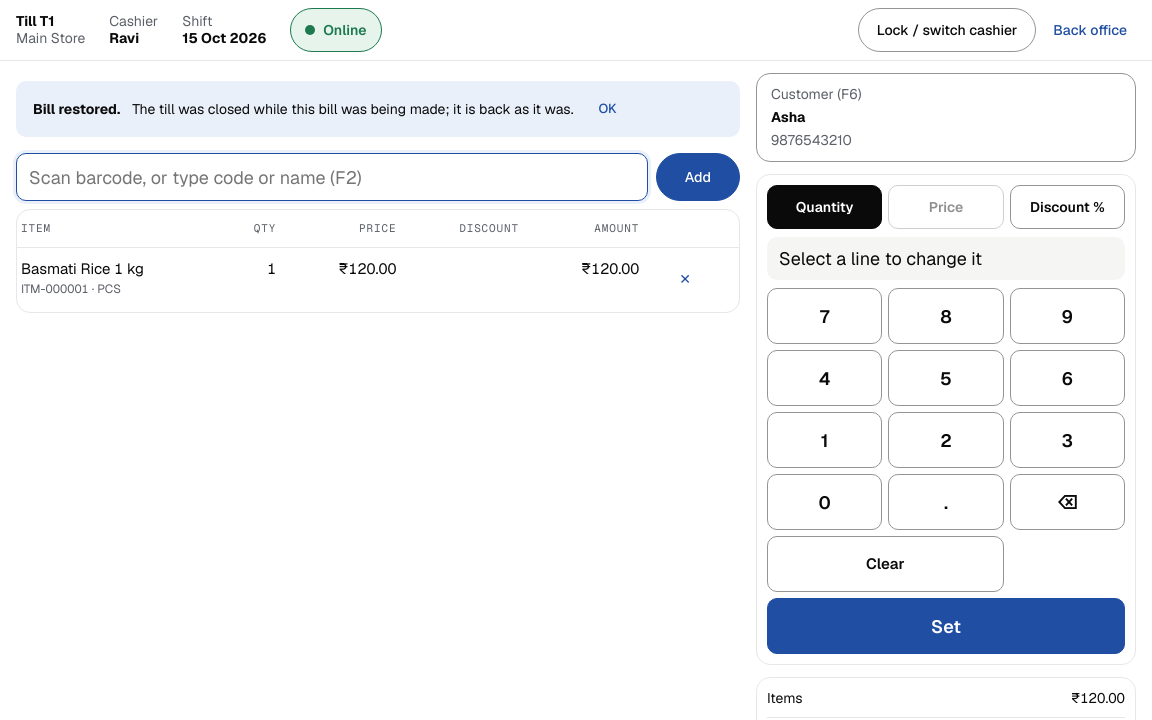
it: on account at the till (plan 07 §1a) › over the credit limit: manager PIN, then the same bill is sent again and finished
Expected: the form is shown, [16, 153, 740, 201]
Press F4
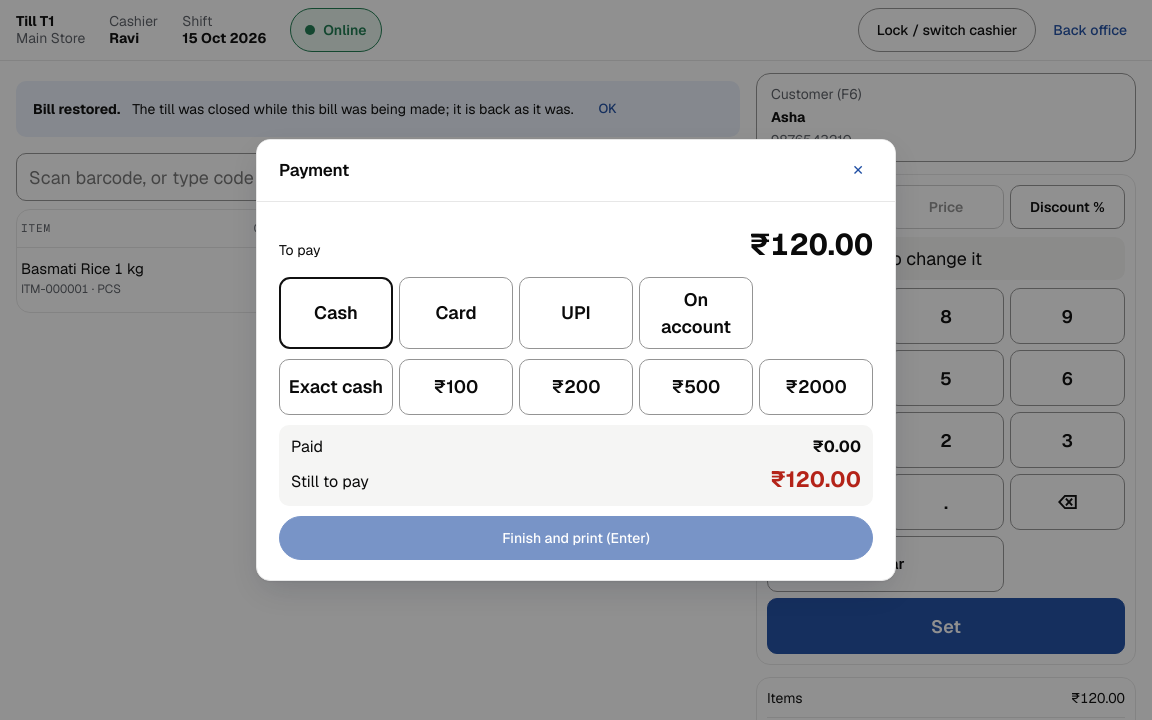
Click the button "On account" at [696, 313], box [639, 277, 753, 349]
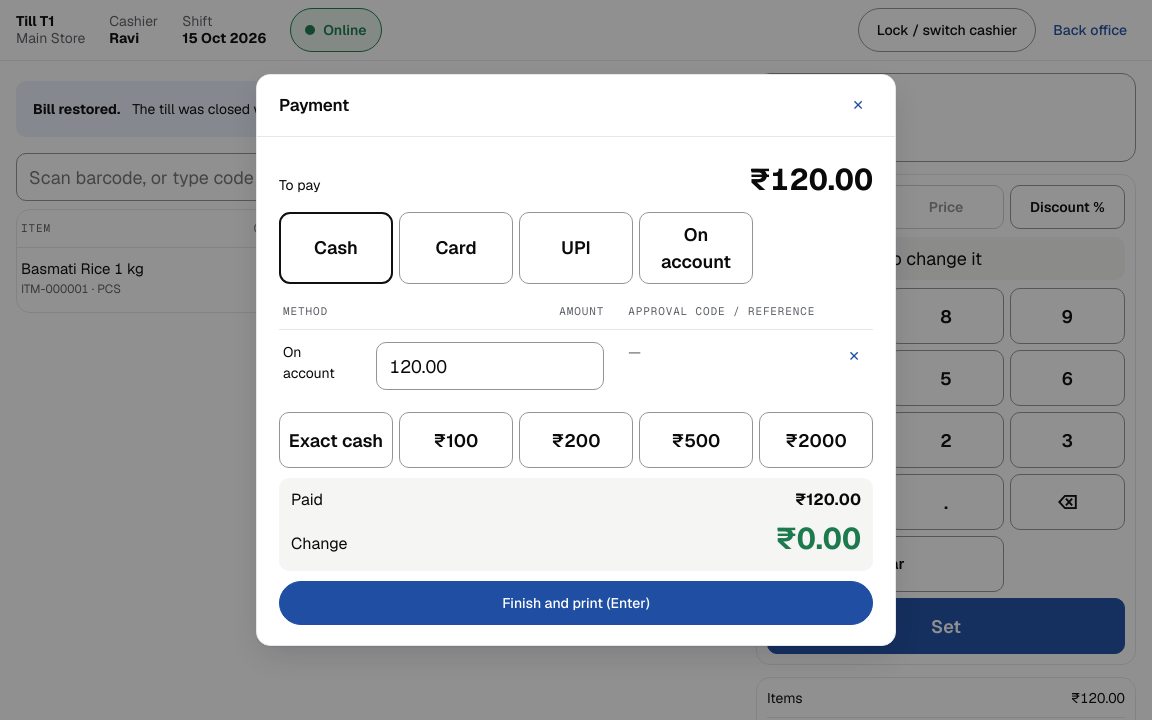
Click the button "Finish and print (Enter)" at [576, 603], box [279, 581, 873, 625]
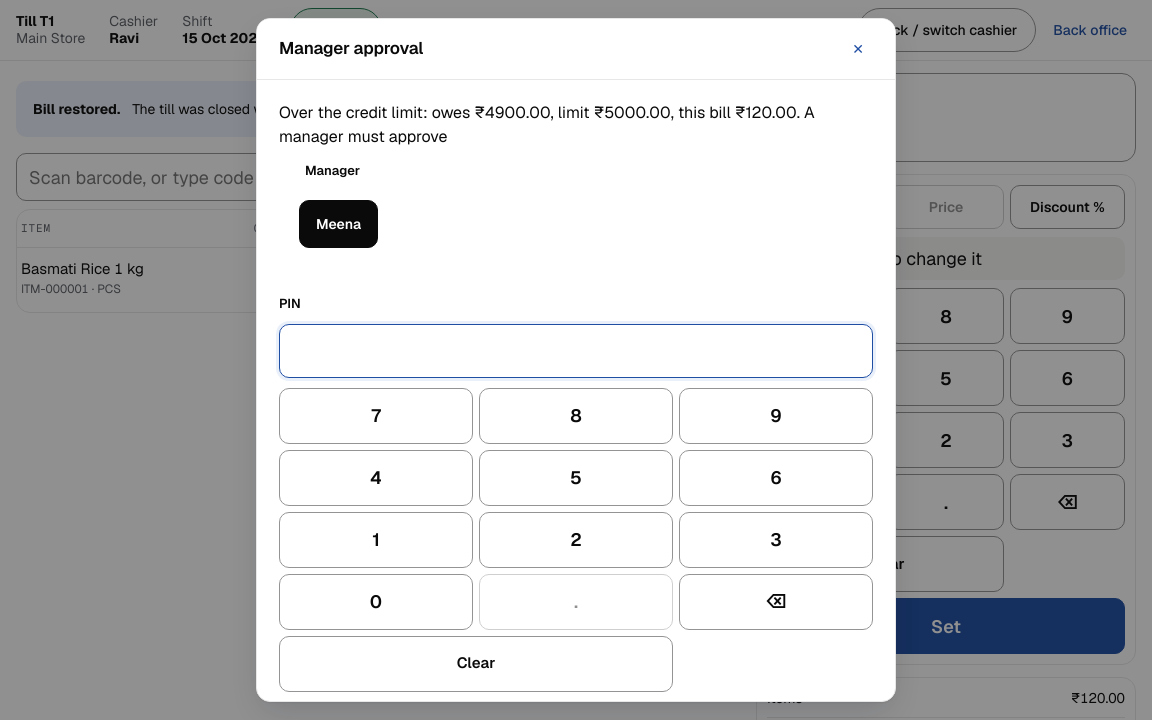
Now the text "Over the credit limit" is shown, box [279, 102, 815, 147]
Type "4321" into the password field labelled "PIN" at [576, 351], box [279, 324, 873, 378]
(page scrolled)
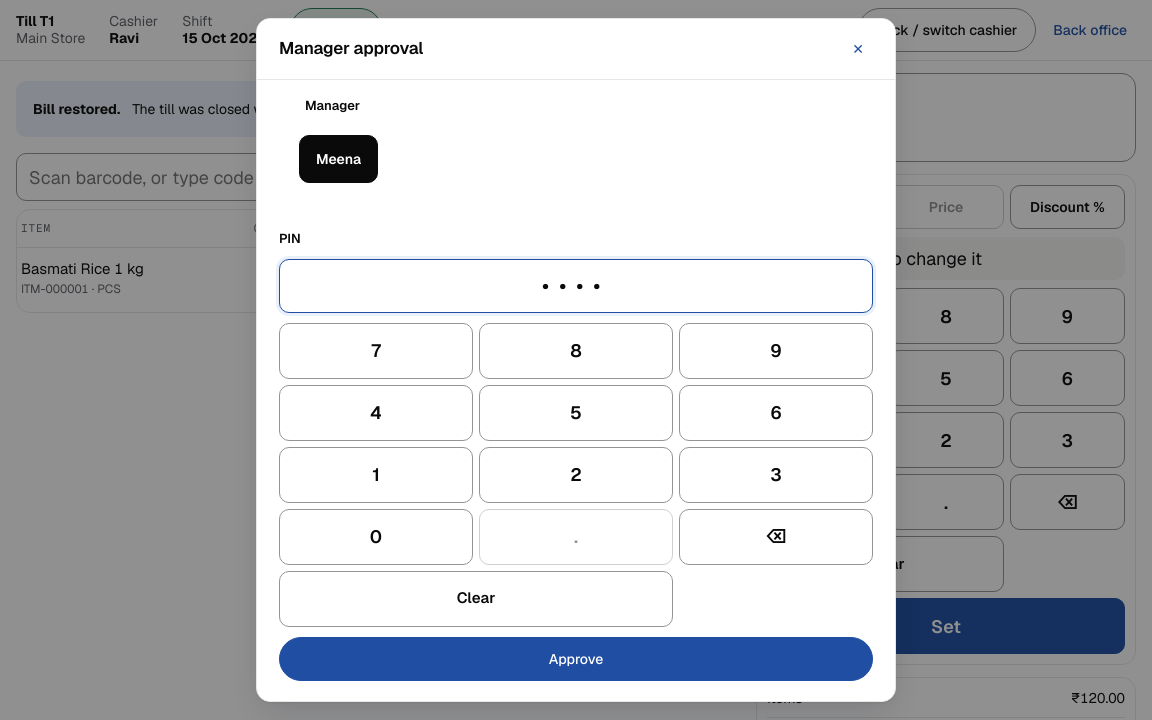
Click the button "Approve" at [576, 659], box [279, 637, 873, 681]
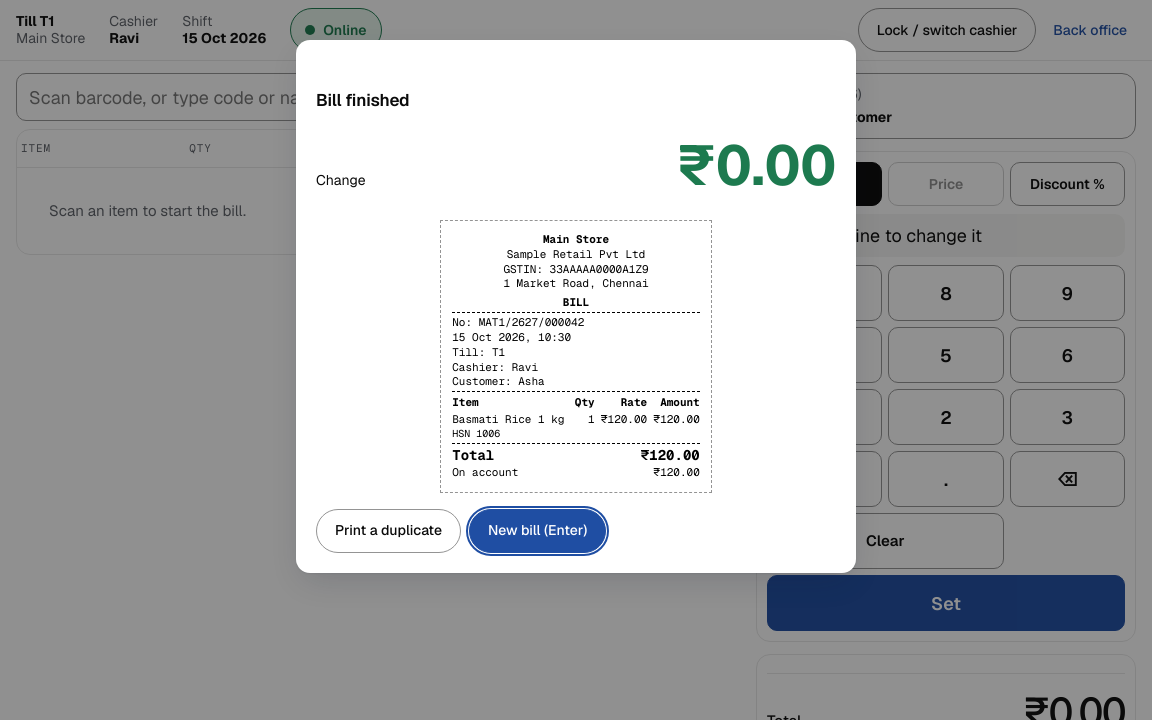
Now the text "On account" is shown, box [452, 465, 518, 479]
